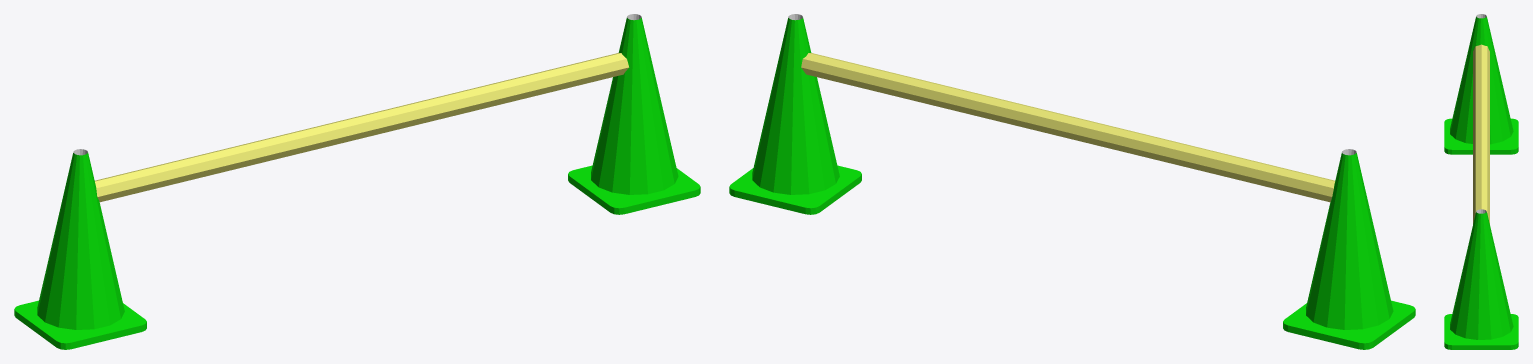
Rendered from equipment_0016_agilitycones.glb.
The picture shows the model from 3 angles, left to right: view 1: azimuth 30°, elevation 25°; view 2: azimuth 150°, elevation 25°; view 3: azimuth 270°, elevation 25°; orthographic projection. The views are drawn at different scales.
Parts seen in each view (by area): view 1: pole, cone1, cone2, base1, base2; view 2: pole, cone1, cone2, base2, base1; view 3: cone2, cone1, pole, base2, base1.
Boxes of the visible parts, x1=… form: pole: x1=95, y1=53, x2=629, y2=202; cone1: x1=37, y1=153, x2=124, y2=329; cone2: x1=591, y1=17, x2=678, y2=194; base1: x1=14, y1=300, x2=146, y2=349; base2: x1=568, y1=165, x2=700, y2=214; pole: x1=801, y1=53, x2=1335, y2=202; cone1: x1=1306, y1=153, x2=1393, y2=329; cone2: x1=752, y1=18, x2=839, y2=194; base2: x1=729, y1=165, x2=861, y2=214; base1: x1=1283, y1=300, x2=1415, y2=349; cone2: x1=1450, y1=212, x2=1513, y2=339; cone1: x1=1450, y1=16, x2=1513, y2=144; pole: x1=1473, y1=44, x2=1489, y2=223; base2: x1=1444, y1=314, x2=1518, y2=349; base1: x1=1444, y1=118, x2=1518, y2=154.
Size of the model in its own units: 128 by 32.24 by 17.64.
